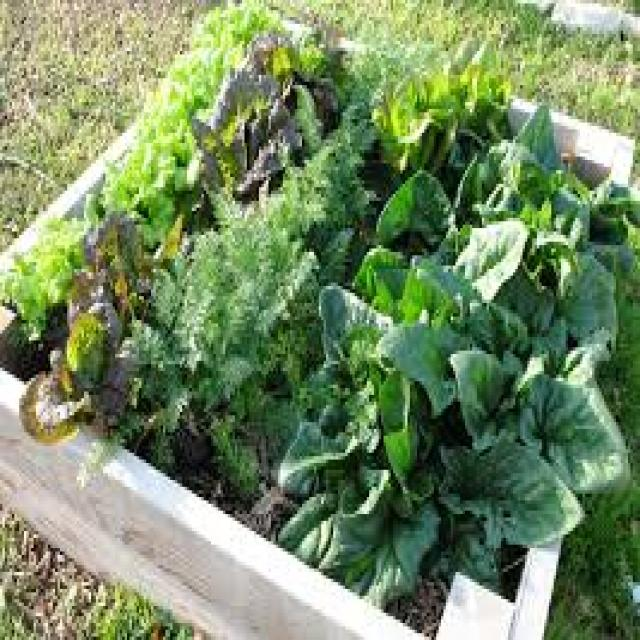organic waste: (391, 276, 628, 586), (273, 283, 446, 606), (456, 99, 636, 354), (118, 228, 256, 490), (15, 262, 136, 439), (199, 191, 321, 337), (190, 54, 316, 190), (350, 170, 458, 317), (101, 109, 199, 238), (264, 136, 372, 245), (249, 7, 345, 122), (0, 204, 86, 330), (74, 208, 180, 306), (364, 75, 456, 177), (426, 41, 506, 153), (144, 20, 223, 133), (199, 4, 278, 54), (321, 78, 374, 150)
